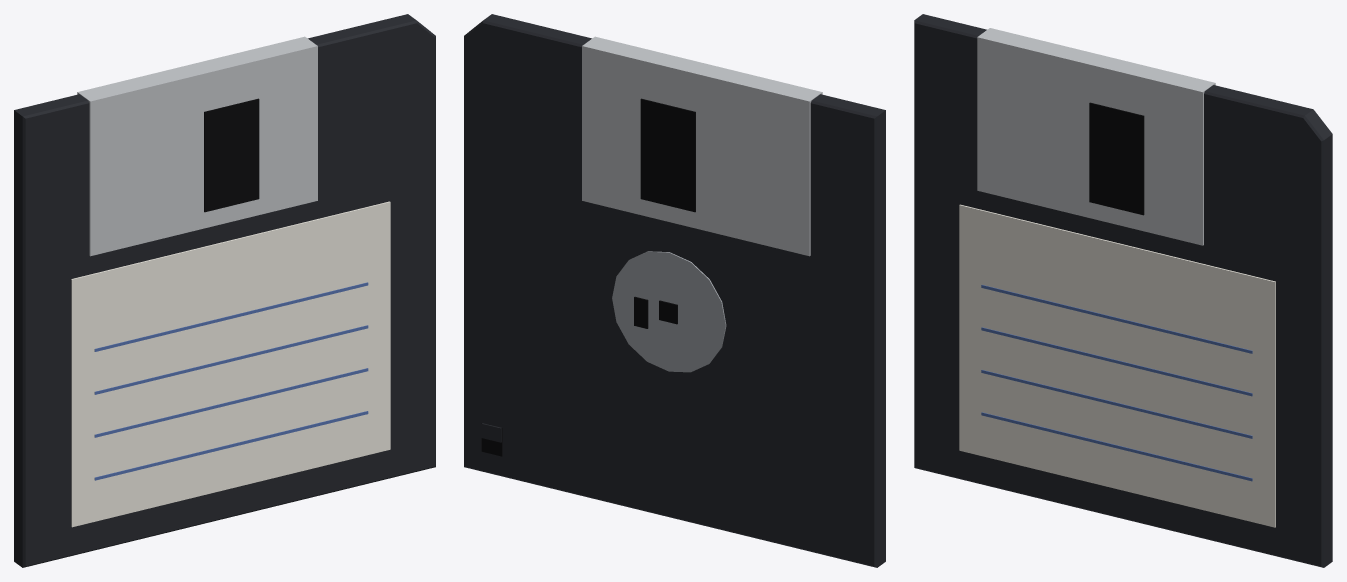
Rendered from grace-floppy.glb.
The picture shows the model from 3 angles, left to right: view 1: azimuth 30°, elevation 25°; view 2: azimuth 150°, elevation 25°; view 3: azimuth 330°, elevation 25°; orthographic projection.
Visible parts, largest first — view 1: shell, label, shutter front, head window, label rule (×4), shutter edge; view 2: shell, shutter back, hub, head window, shutter edge; view 3: shell, label, shutter front, head window, label rule (×4), shutter edge.
Part boxes in pixels (x1,y1,x2,y2): shell: (14, 14, 435, 567); label: (71, 201, 390, 527); shutter front: (89, 48, 317, 256); head window: (204, 98, 259, 212); label rule (×4): (94, 282, 368, 480); shutter edge: (77, 36, 317, 103); shell: (464, 14, 885, 567); shutter back: (582, 48, 810, 256); hub: (612, 251, 726, 372); head window: (640, 98, 695, 212); shutter edge: (582, 36, 822, 103); shell: (914, 14, 1332, 567); label: (959, 204, 1275, 527); shutter front: (977, 39, 1203, 245); head window: (1089, 102, 1144, 215); label rule (×4): (981, 285, 1252, 481); shutter edge: (977, 28, 1215, 94).
Size of the model in its own units: 0.0908 by 0.0949 by 0.0054.
